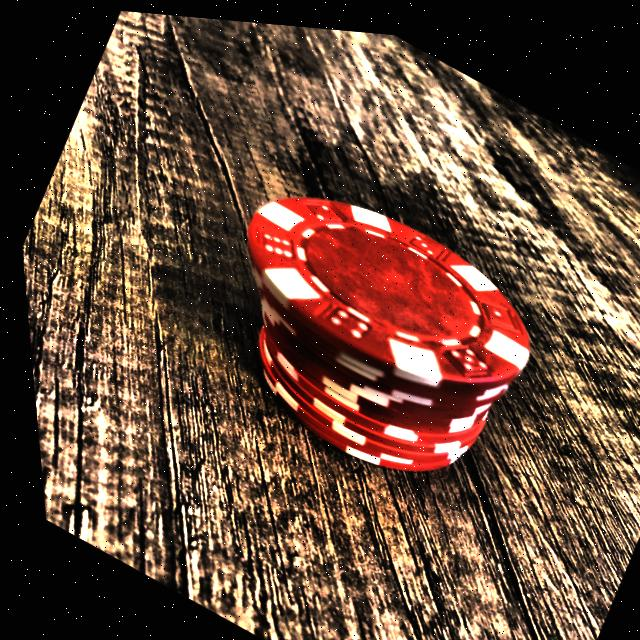Chip: (165, 139, 566, 523)
